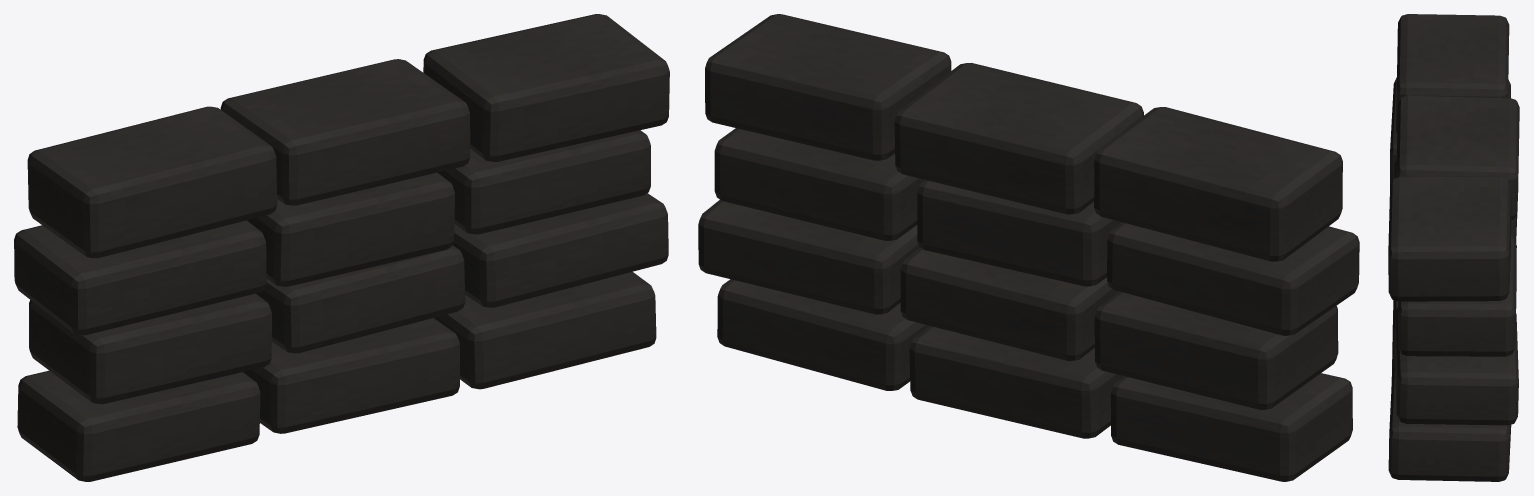
The model's file is prop_town_rock_wall_small.glb.
3 views of the same model, side by side, from view 1: azimuth 30°, elevation 25°; view 2: azimuth 150°, elevation 25°; view 3: azimuth 270°, elevation 25° (orthographic). The views are drawn at different scales.
Parts seen in each view (by area): view 1: stone; view 2: stone; view 3: stone.
Part boxes in pixels (x1=…): stone: x1=14, y1=14, x2=669, y2=481; stone: x1=698, y1=14, x2=1359, y2=481; stone: x1=1388, y1=14, x2=1519, y2=481.
Size of the model in its own units: 3.56 by 1.68 by 0.8071.
1 material, 1 textured.
